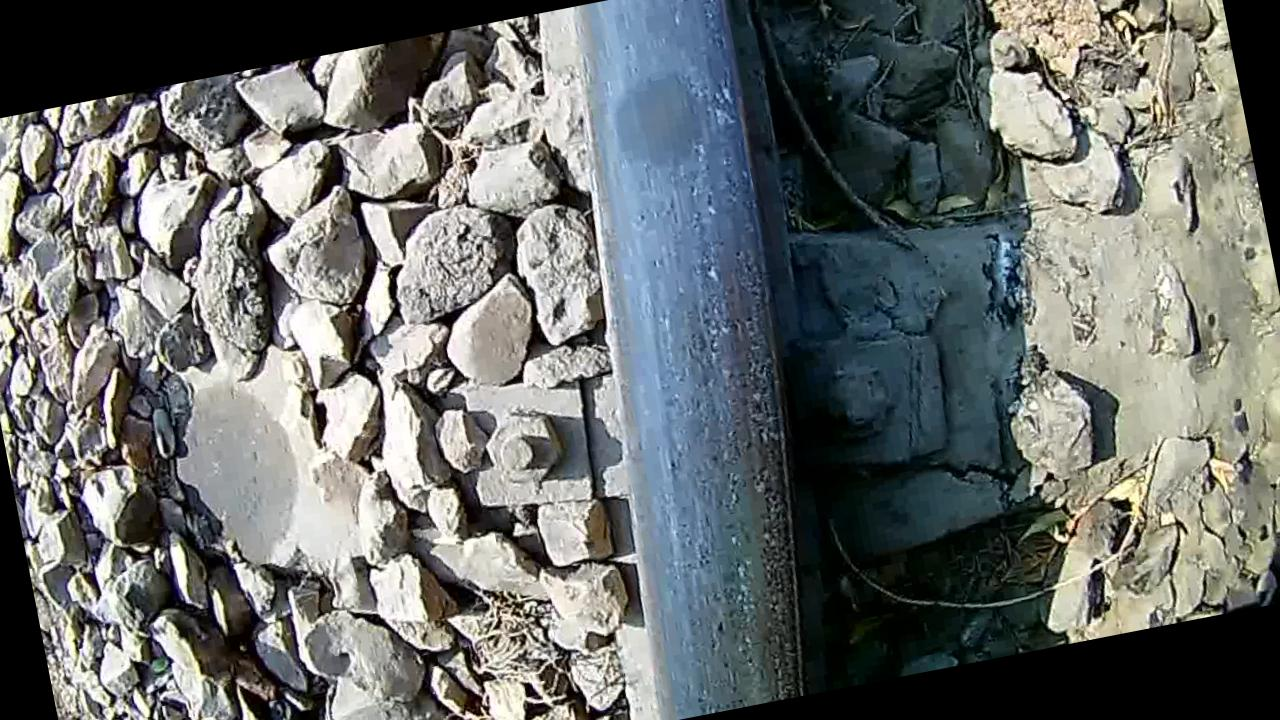bolt_missing: (560, 44, 753, 203)
